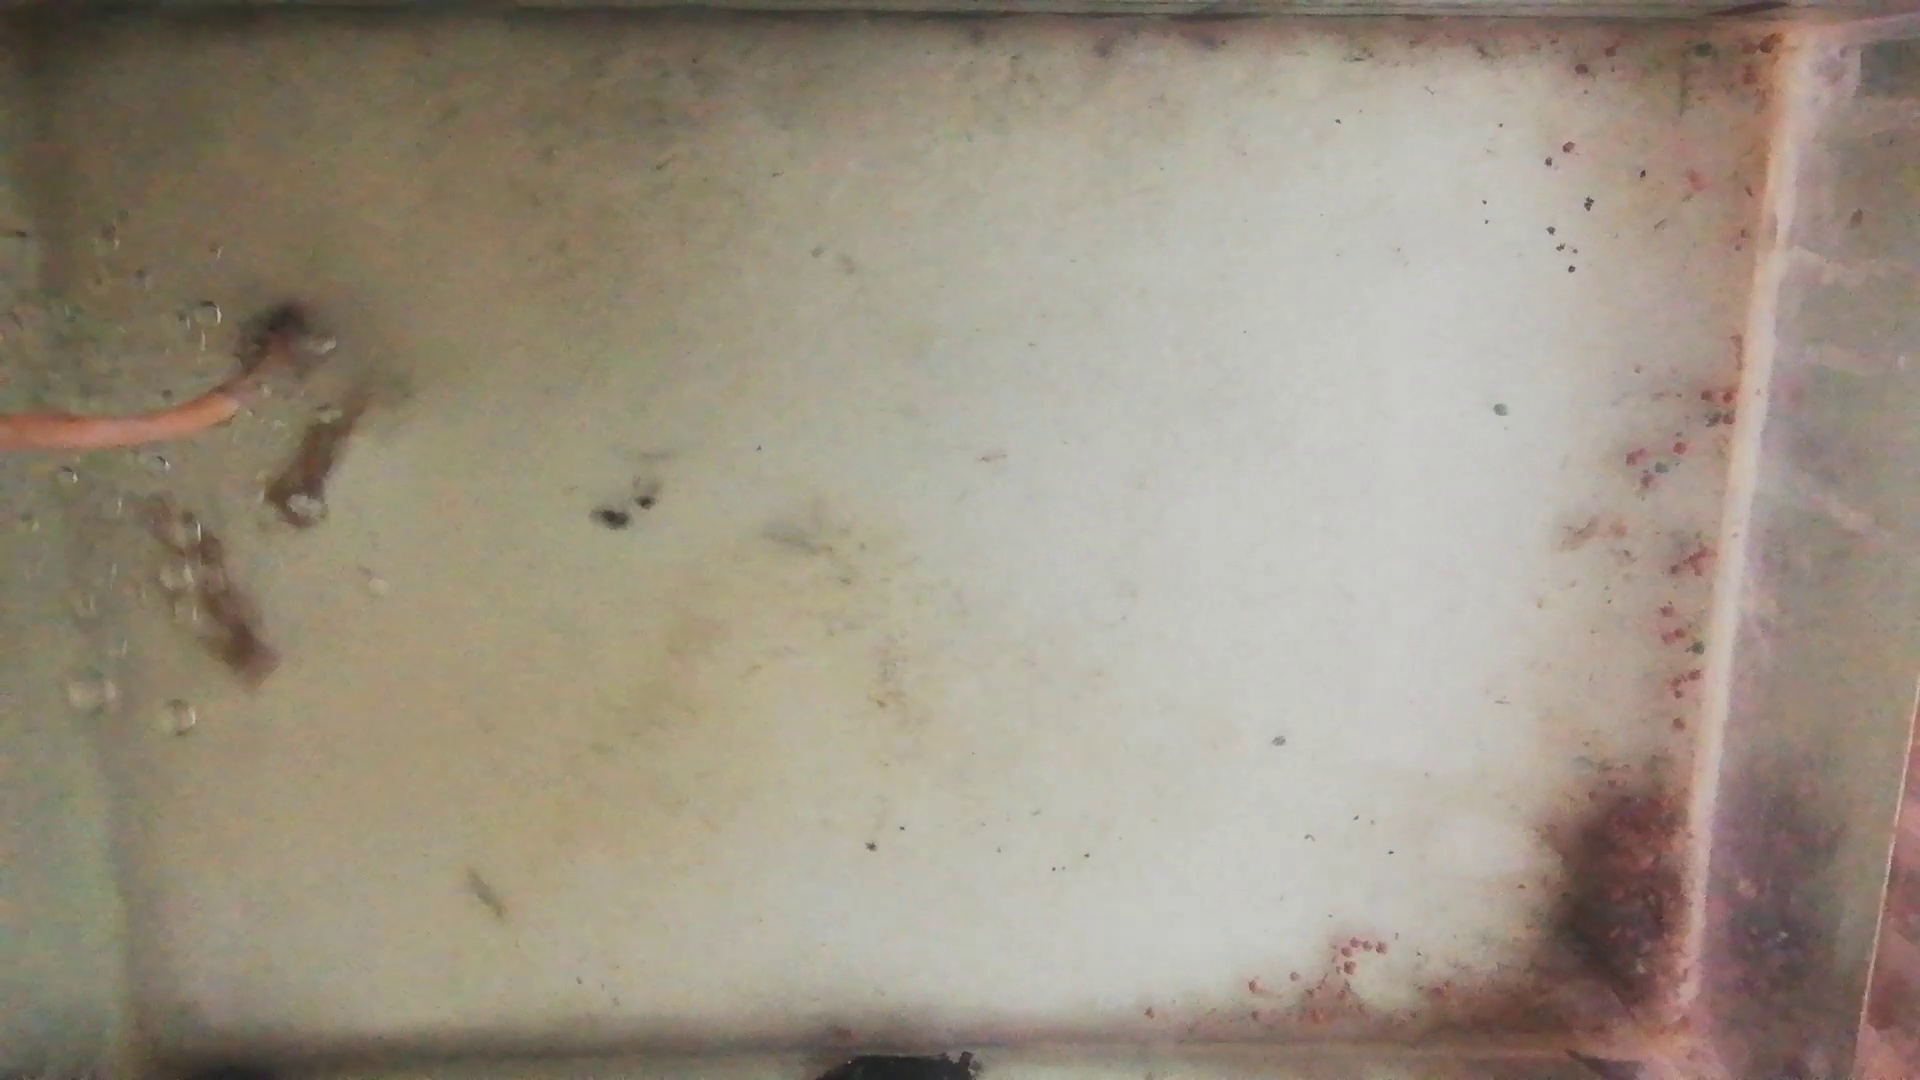fish: (138, 487, 276, 682), (262, 392, 363, 535)
